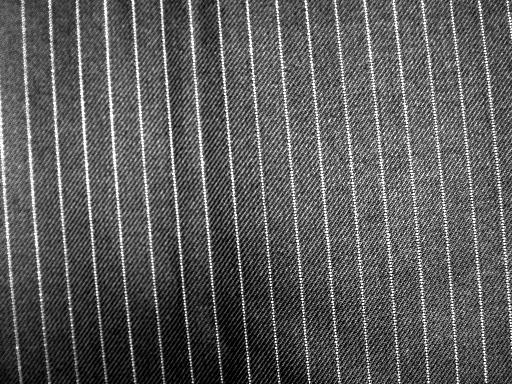fabric_perfect: (2, 1, 510, 381)
